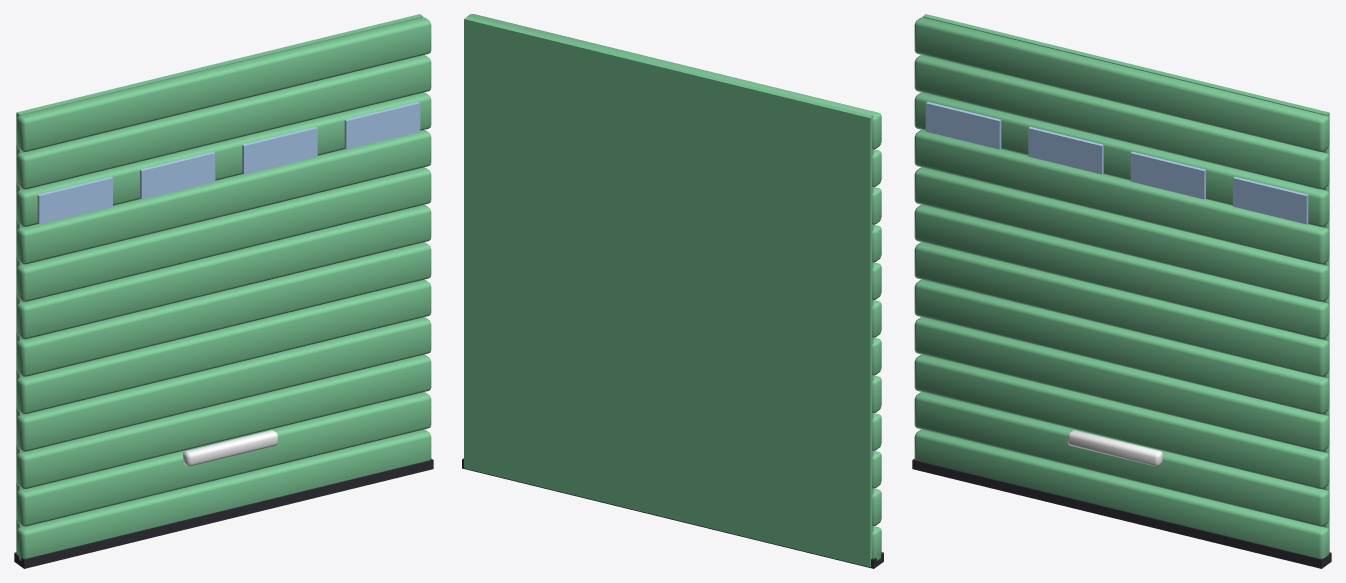
The model's file is garage_door.glb.
3 renders of one model, left to right at view 1: azimuth 30°, elevation 25°; view 2: azimuth 150°, elevation 25°; view 3: azimuth 330°, elevation 25°, orthographic.
Parts seen in each view (by area): view 1: garage_door; view 2: garage_door; view 3: garage_door.
Boxes of the visible parts, x1,y1,x2,y2 form: garage_door: (14, 14, 433, 568); garage_door: (462, 14, 883, 568); garage_door: (912, 14, 1331, 568).
Bounding box in the file's own units: 1.43 × 1.5 × 0.095.
